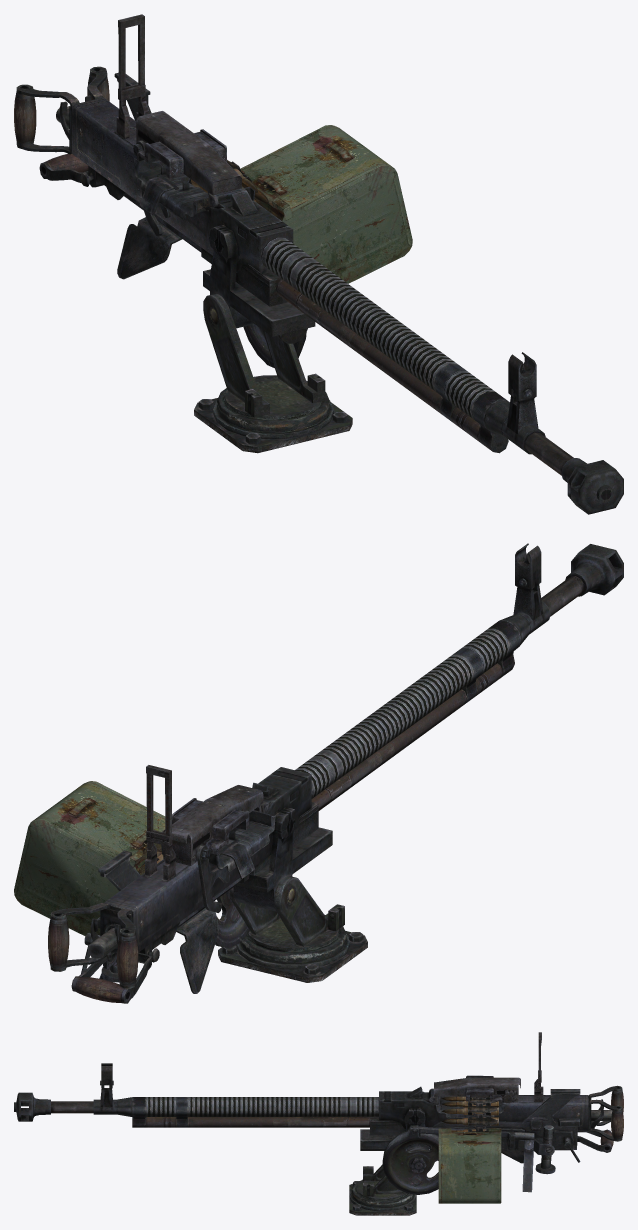
File: dshk_metro_2033_redux.glb
3 renders of one model, top to bottom at view 1: azimuth 30°, elevation 25°; view 2: azimuth 150°, elevation 25°; view 3: azimuth 270°, elevation 25°, orthographic. The views are drawn at different scales.
Parts seen in each view (by area): view 1: Object_2; view 2: Object_2; view 3: Object_2.
Boxes of the visible parts, x1,y1,x2,y2 form: Object_2: [14, 14, 623, 514]; Object_2: [14, 543, 623, 1003]; Object_2: [14, 1032, 623, 1215].
Size of the model in its own units: 0.5114 by 0.5949 by 1.99.
Materials: 1 (1 with a texture image).
